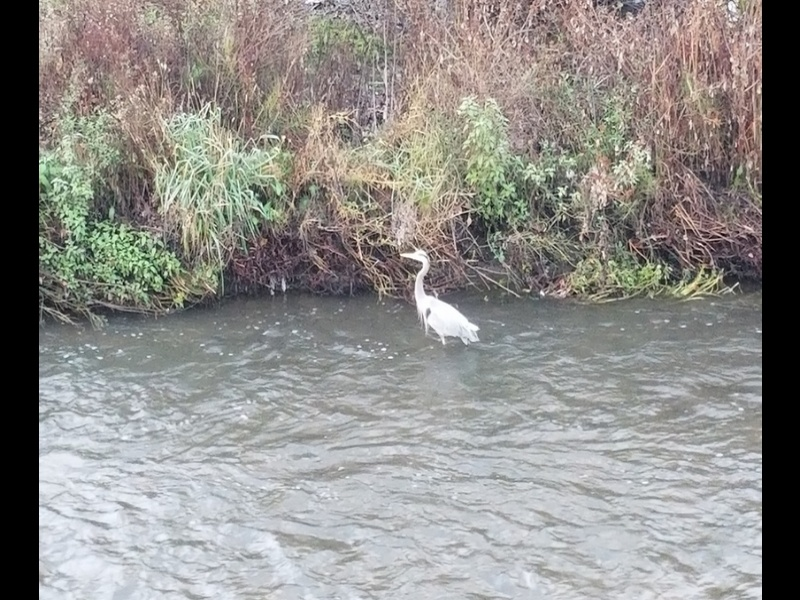heron: (398, 249, 481, 349)
